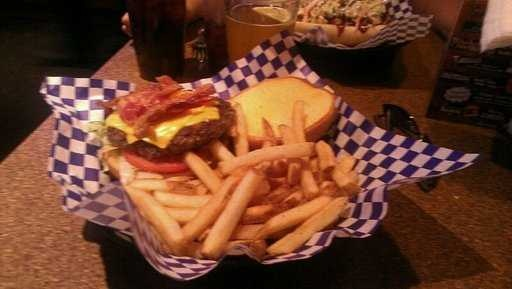hamburger: (100, 66, 331, 167)
